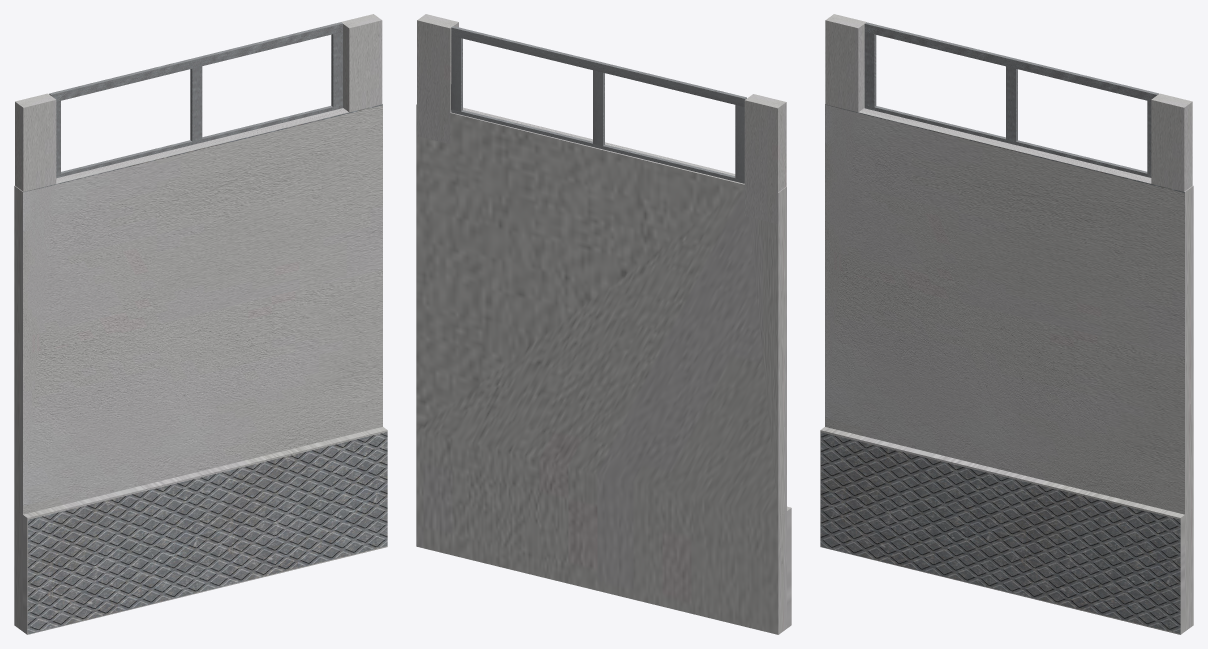
The model's file is Wall.fbx.
3 views of the same model, side by side, from view 1: azimuth 30°, elevation 25°; view 2: azimuth 150°, elevation 25°; view 3: azimuth 330°, elevation 25° (orthographic).
Parts seen in each view (by area): view 1: Cube, Cube.007, Cube.006, Cube.001, Cube.002, Cube.005, Cube.004; view 2: Cube, Cube.007, Cube.006, Cube.001, Cube.002, Cube.004, Cube.005, Cube.003; view 3: Cube, Cube.006, Cube.007, Cube.001, Cube.002, Cube.003, Cube.005.
Part boxes in pixels (<box>): Cube: <box>14,104,387,634</box>; Cube.007: <box>15,93,56,191</box>; Cube.006: <box>341,14,382,112</box>; Cube.001: <box>49,22,342,101</box>; Cube.002: <box>56,105,342,178</box>; Cube.005: <box>190,66,202,141</box>; Cube.004: <box>331,32,342,106</box>; Cube: <box>416,104,791,634</box>; Cube.007: <box>744,94,786,223</box>; Cube.006: <box>417,14,458,143</box>; Cube.001: <box>451,26,746,106</box>; Cube.002: <box>451,109,744,183</box>; Cube.004: <box>451,36,462,111</box>; Cube.005: <box>593,70,604,145</box>; Cube.003: <box>735,105,744,180</box>; Cube: <box>820,104,1193,634</box>; Cube.006: <box>1151,93,1192,191</box>; Cube.007: <box>825,14,866,112</box>; Cube.001: <box>864,22,1158,101</box>; Cube.002: <box>864,105,1151,177</box>; Cube.003: <box>864,32,876,107</box>; Cube.005: <box>1006,66,1017,141</box>.
Bounding box in the file's own units: 655 × 910 × 41.42.
8 materials, 8 textured.
